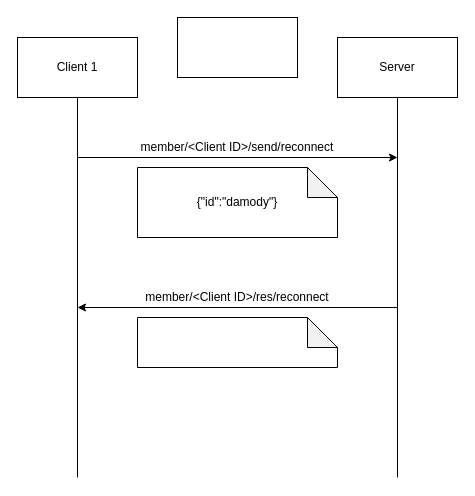
Image size: 475x496. Some labels were removed from this diagram. The box of each missing label's shape, as (x1, y1, x2, y2) in pixels:
reconnect: (176, 16, 298, 78)
{"server":"123.456.10.34:1234"}: (136, 316, 338, 368)
